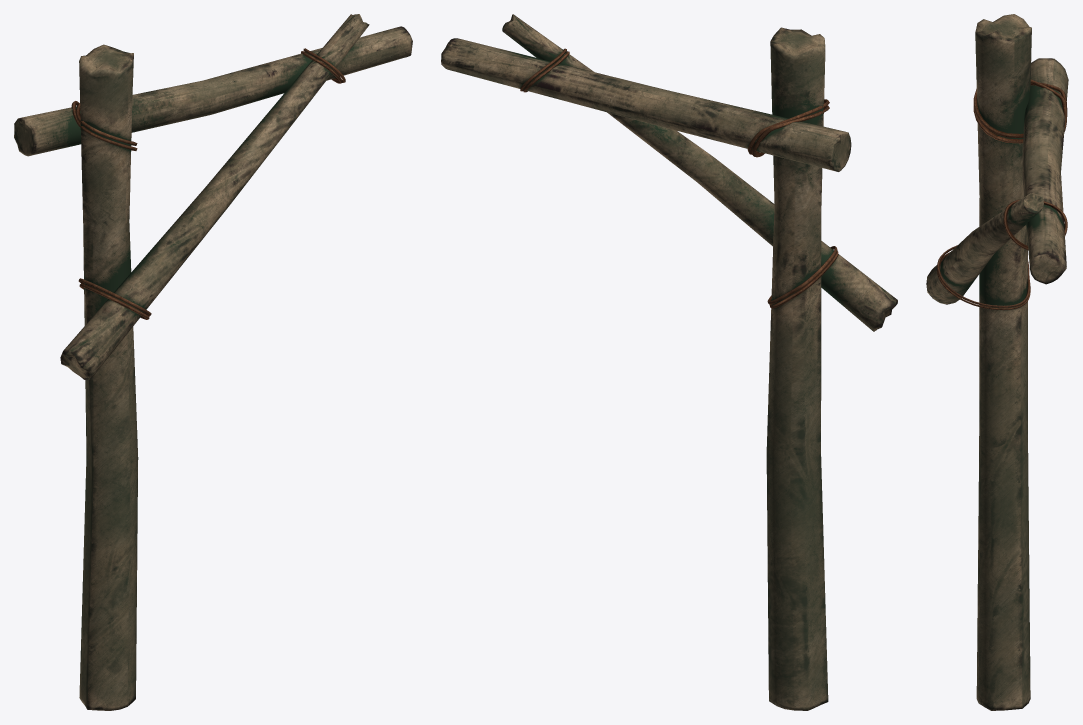
Rendered from lampara 2 final.fbx.
3 renders of one model, left to right at view 1: azimuth 30°, elevation 25°; view 2: azimuth 150°, elevation 25°; view 3: azimuth 270°, elevation 25°, orthographic. The views are drawn at different scales.
Parts seen in each view (by area): view 1: madera1_low, madera3_low, Madera2_low; view 2: madera1_low, Madera2_low, madera3_low; view 3: madera1_low, Madera2_low, madera3_low, cuerda1_low, cuerda3_low, cuerda2_low, cuerda5_low, cuerda4_low.
Boxes of the visible parts, <box> form: madera1_low: <box>79,44,138,710</box>; madera3_low: <box>60,14,369,379</box>; Madera2_low: <box>14,26,412,156</box>; madera1_low: <box>766,27,828,710</box>; Madera2_low: <box>441,38,851,171</box>; madera3_low: <box>502,14,897,331</box>; madera1_low: <box>975,14,1031,710</box>; Madera2_low: <box>1022,58,1068,284</box>; madera3_low: <box>926,193,1043,304</box>; cuerda1_low: <box>973,79,1067,137</box>; cuerda3_low: <box>937,245,1030,307</box>; cuerda2_low: <box>973,82,1067,143</box>; cuerda5_low: <box>1003,199,1067,250</box>; cuerda4_low: <box>937,252,1030,310</box>.
Bounding box in the file's own units: 171 × 272 × 51.93.
Materials: 1 (1 with a texture image).
